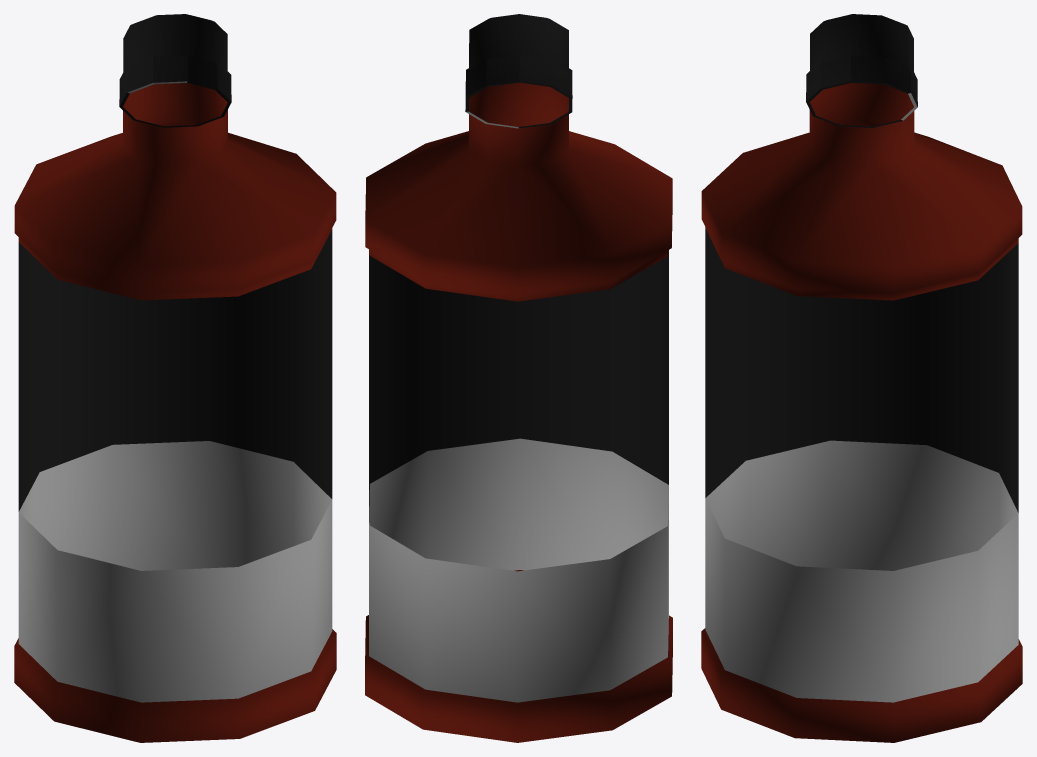
The model's file is Wine 22.fbx.
The picture shows the model from 3 angles, left to right: view 1: azimuth 30°, elevation 25°; view 2: azimuth 150°, elevation 25°; view 3: azimuth 270°, elevation 25°; orthographic projection.
Parts seen in each view (by area): view 1: Node 0; view 2: Node 0; view 3: Node 0.
Boxes of the visible parts, <box> form: Node 0: <box>14,14,336,742</box>; Node 0: <box>365,14,672,742</box>; Node 0: <box>701,14,1022,742</box>.
Bounding box in the file's own units: 0.0998 × 0.22 × 0.0984.
